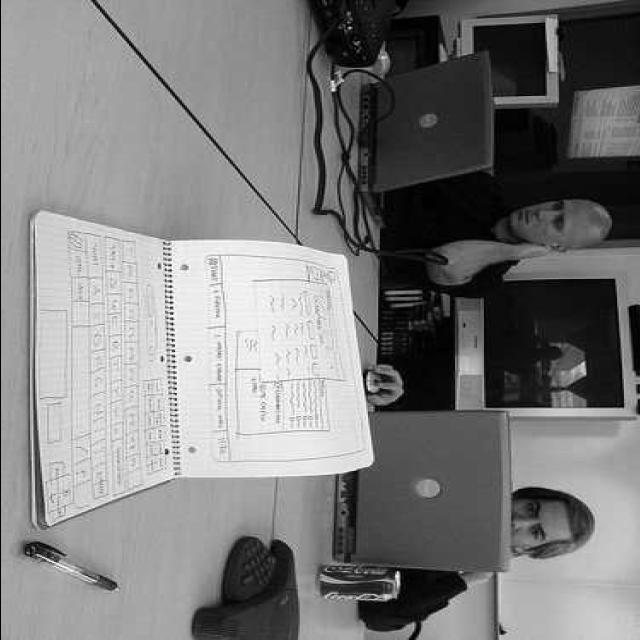laptop: (336, 391, 524, 589), (357, 54, 492, 218)
